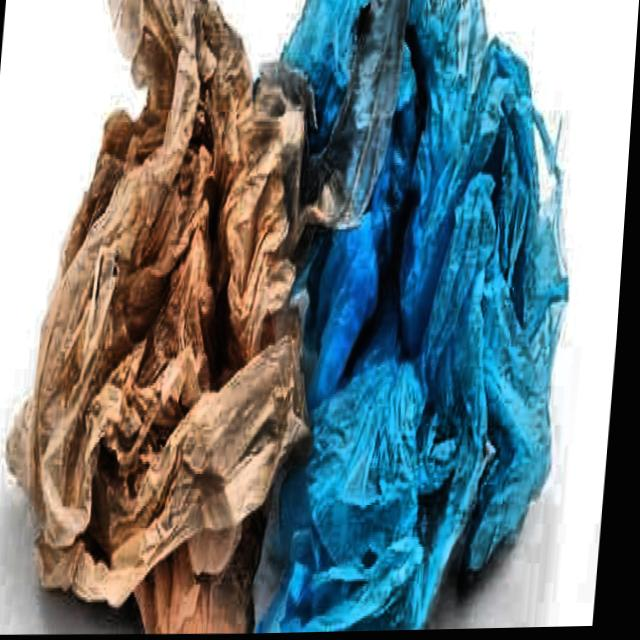Plastic: (224, 0, 599, 635), (0, 0, 336, 625)
